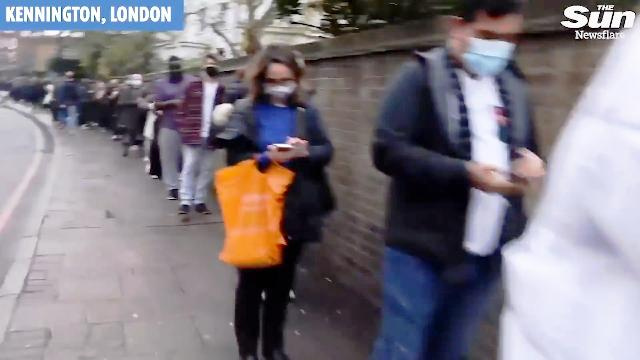berdiri: (354, 11, 550, 360), (212, 36, 342, 356)
